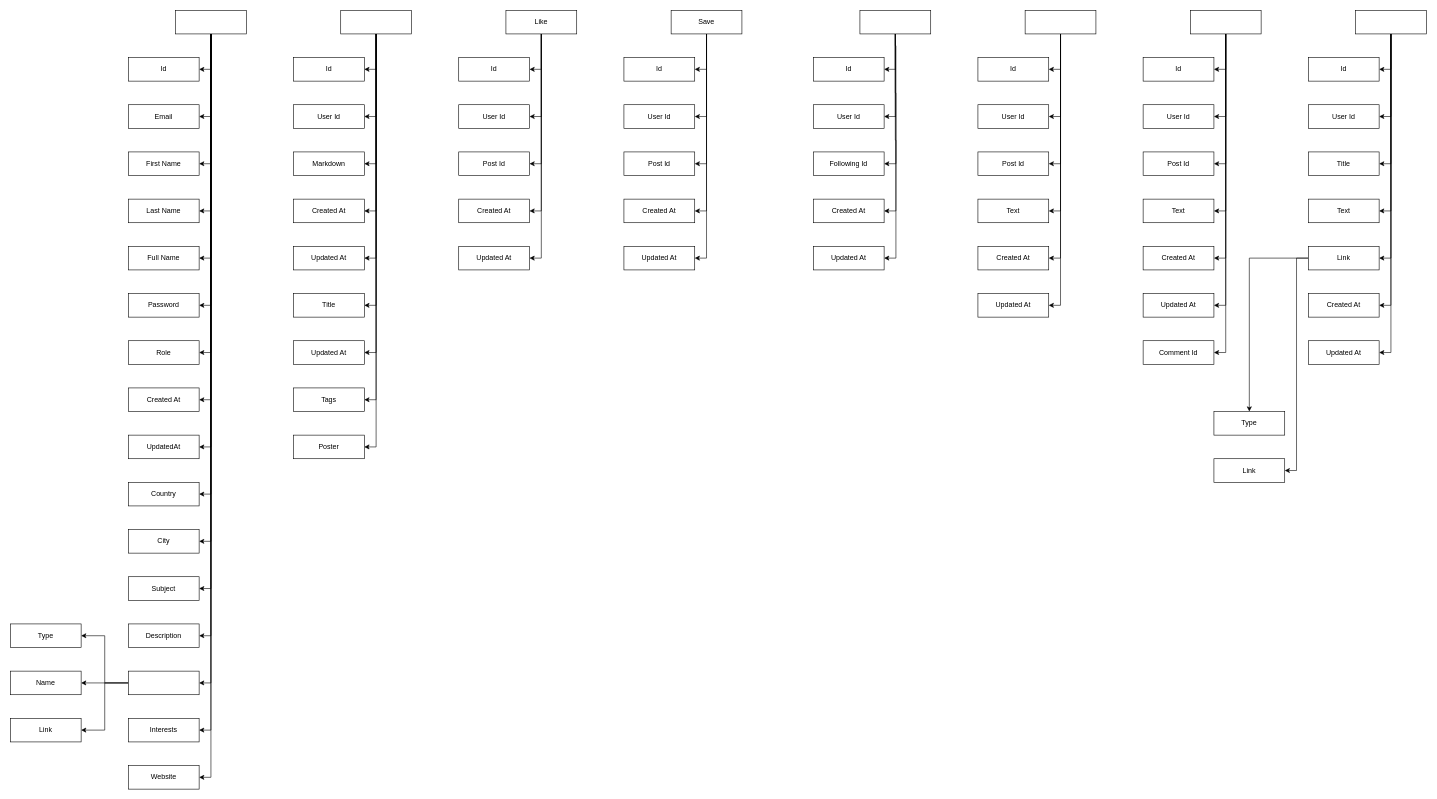
Some shapes in this 1437 by 799 pixel diagram are drawn without their labels. Here are the shapes that lost their labels. From the top down, the centre of each, then its label:
At (x=210, y=22): "User".
At (x=376, y=22): "Post".
At (x=895, y=22): "Following".
At (x=1060, y=22): "Comments".
At (x=1225, y=22): "Replies".
At (x=1390, y=22): "Notifications".
At (x=163, y=683): "Socials".
